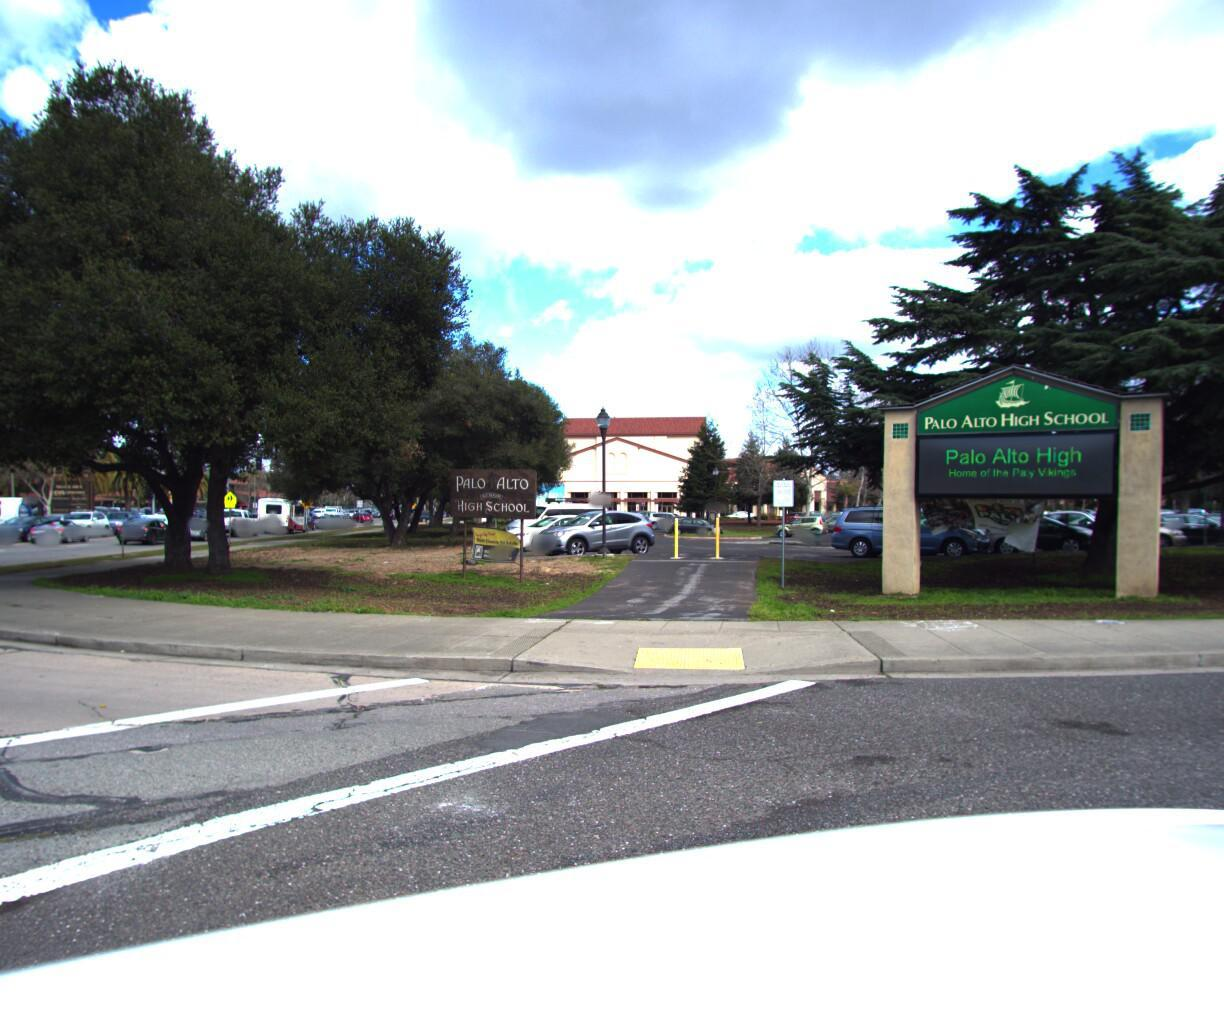bus: (258, 498, 310, 536)
car: (53, 510, 117, 542), (117, 522, 182, 550), (28, 522, 94, 548), (206, 513, 264, 542), (175, 521, 228, 547), (96, 513, 148, 539), (314, 518, 339, 533)
